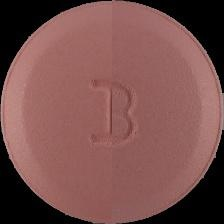60687-128: (0, 0, 224, 224)
